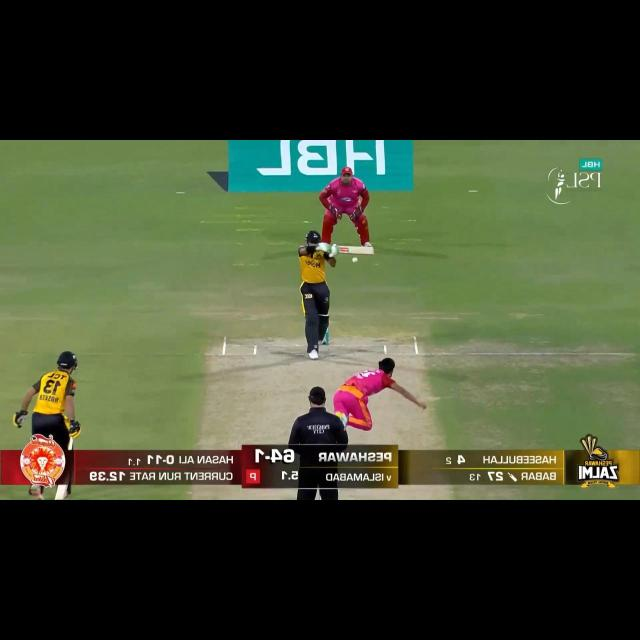bat: (336, 243, 375, 258), (55, 483, 69, 500)
toe: (367, 246, 375, 255), (54, 494, 65, 500)
